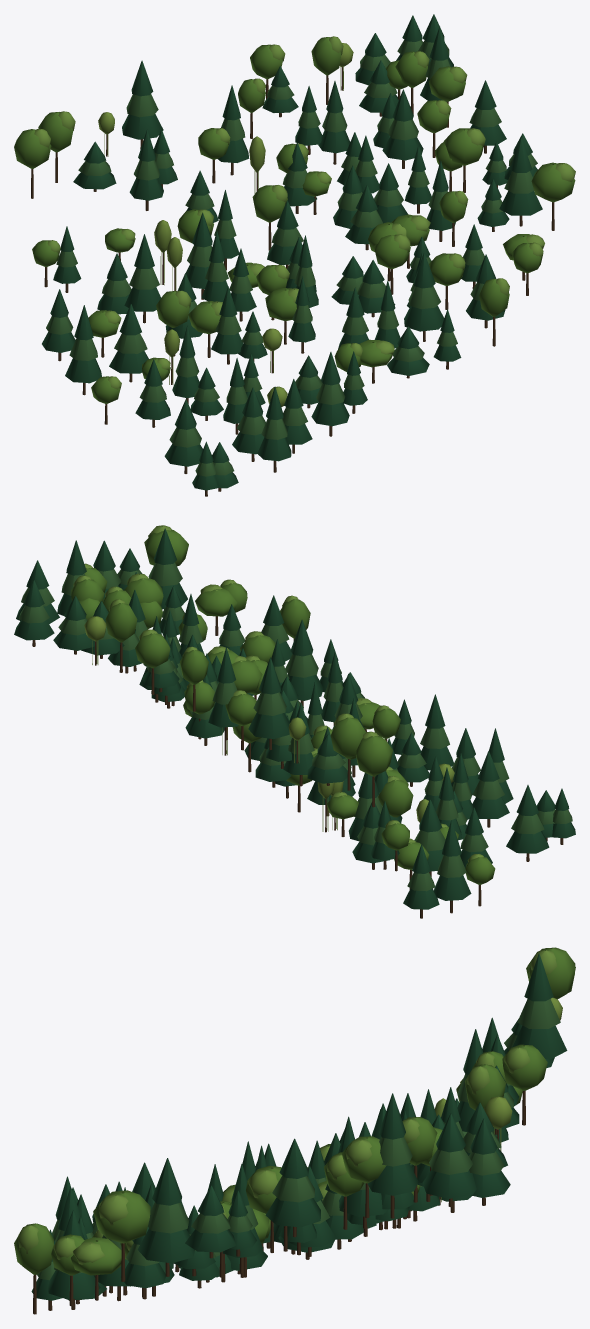
Rendered from forest_4_3.dae.
3 views of the same model, one above another, from view 1: azimuth 30°, elevation 25°; view 2: azimuth 150°, elevation 25°; view 3: azimuth 270°, elevation 25° (orthographic). The views are drawn at different scales.
Parts seen in each view (by area): view 1: forest_4_3; view 2: forest_4_3; view 3: forest_4_3.
Boxes of the visible parts, x1,y1,x2,y2 form: forest_4_3: [14, 14, 575, 496]; forest_4_3: [14, 525, 575, 918]; forest_4_3: [14, 947, 575, 1314].
Size of the model in its own units: 134 by 119 by 92.75.
